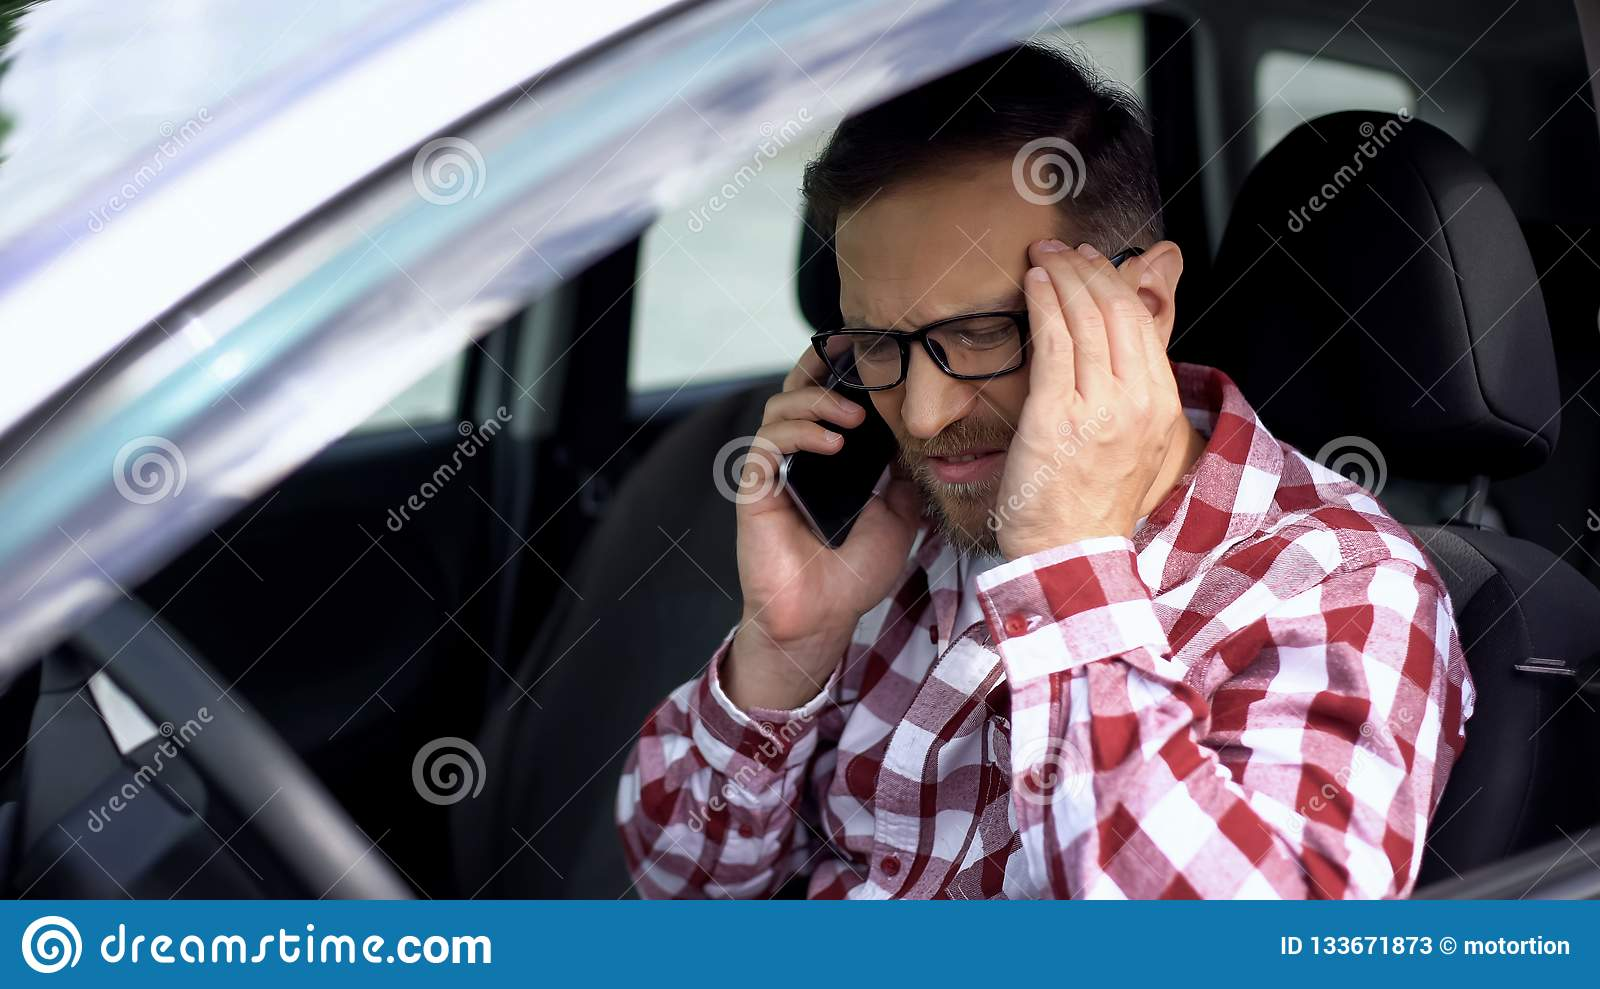phone: (774, 345, 897, 553)
talk: (728, 273, 1041, 653)
